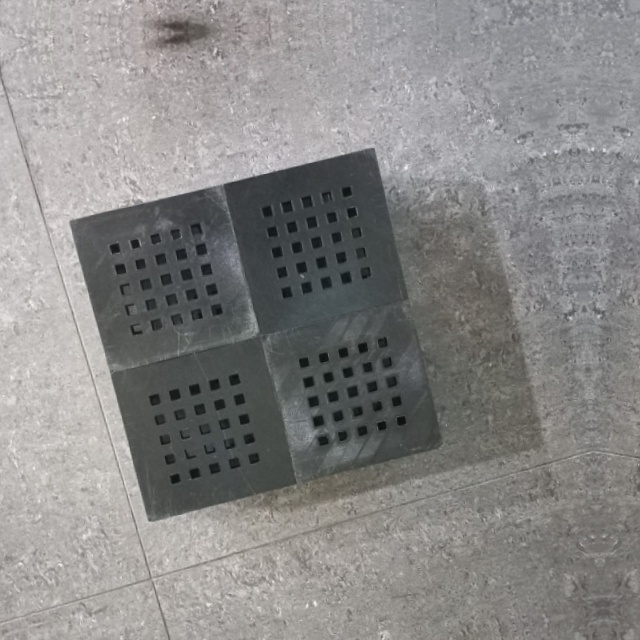pallet: (60, 141, 458, 531)
